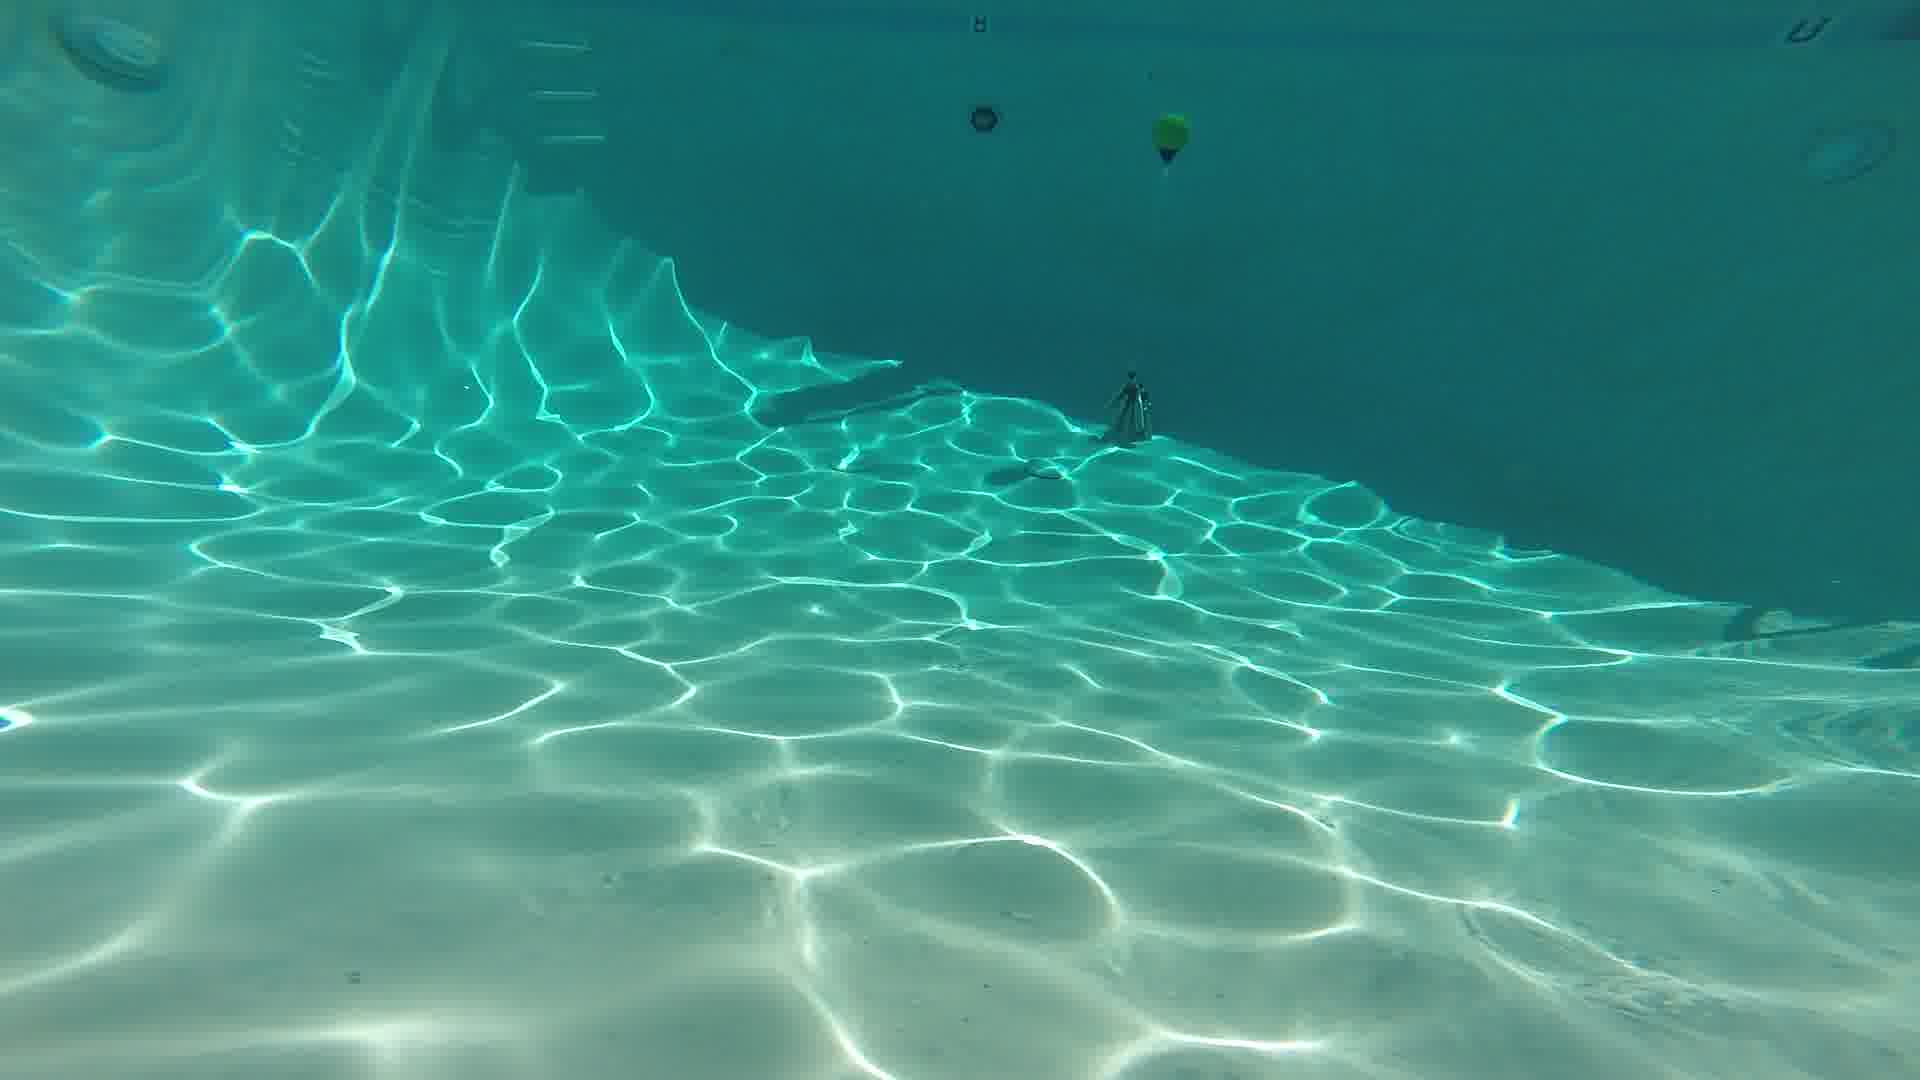yellow buoy: (1141, 107, 1197, 178)
